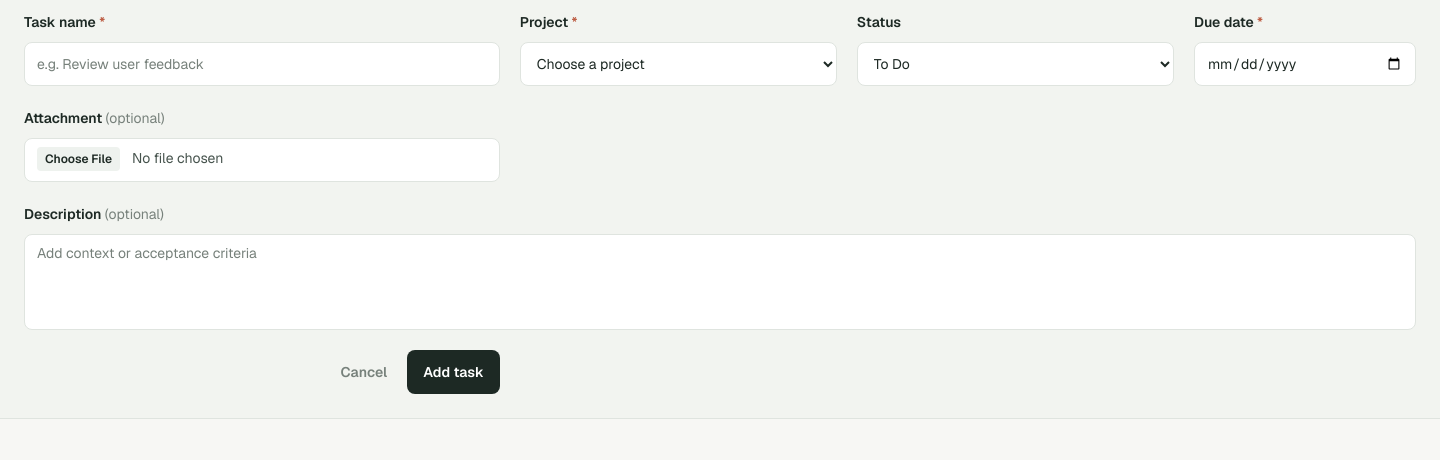
TaskForm › shows validation messages without submitting an empty form
The width and height of the screenshot is (1440, 460).
Click the button "Add task" at (454, 372), box top-left (407, 350), bottom-right (500, 394)
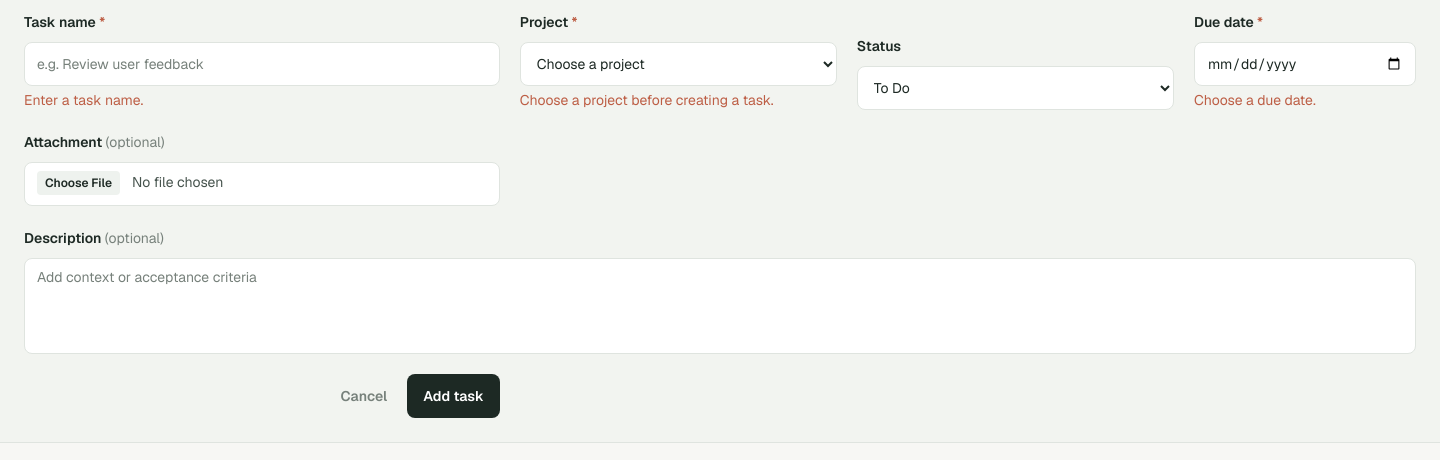
Now the text "Enter a task name." is shown, box top-left (24, 91), bottom-right (143, 109)
Now the text "Choose a due date." is shown, box top-left (1194, 91), bottom-right (1316, 109)
